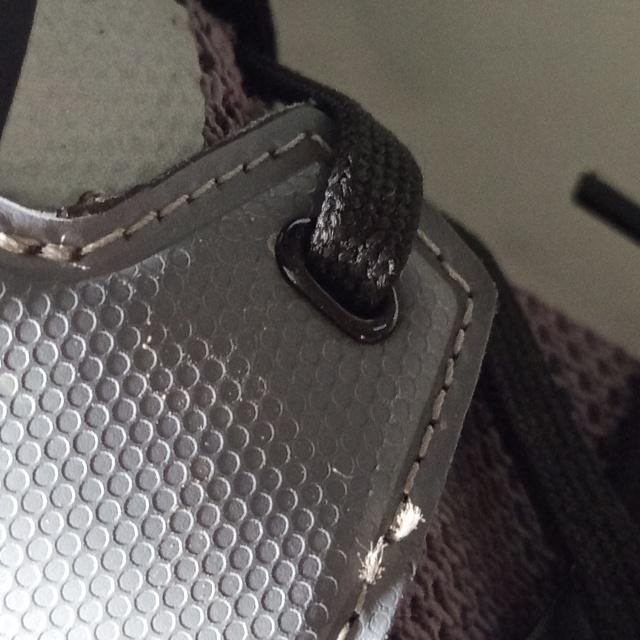broken: (337, 488, 440, 604)
